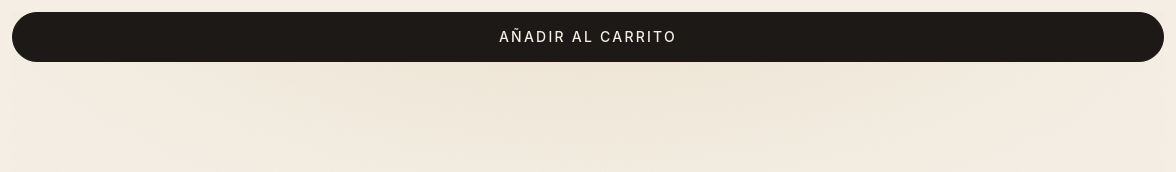
Test: AnadirAlCarrito › añade una unidad, lo confirma y lo anuncia
The image size is (1176, 172).
Step 1. Click the button "Añadir al carrito" → (588, 37), box [12, 12, 1164, 62]
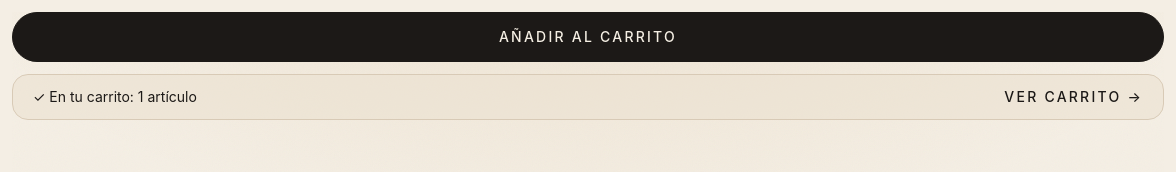
Expected: the text "✓ En tu carrito: 1 artículo" is shown, [33, 87, 197, 107]
